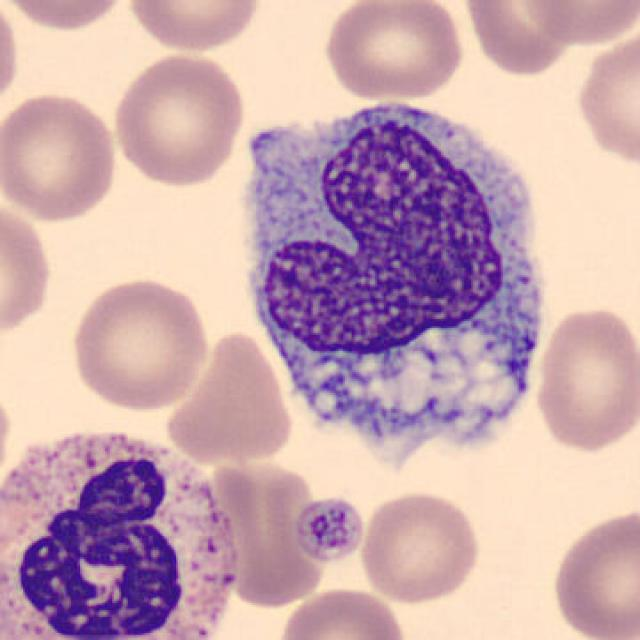Eosinophil: (0, 414, 252, 639)
Monocyte: (228, 78, 562, 476)
Platelets: (290, 494, 368, 566)
RBC: (66, 274, 212, 414), (108, 50, 249, 190), (205, 453, 327, 614), (160, 326, 297, 466), (0, 86, 123, 224), (530, 301, 638, 455), (356, 486, 486, 606), (320, 0, 467, 102), (546, 504, 638, 640), (571, 21, 638, 173), (459, 0, 585, 78), (0, 194, 55, 344), (124, 0, 265, 55), (275, 583, 410, 640), (518, 0, 638, 48), (0, 0, 135, 35), (0, 0, 23, 116), (0, 377, 16, 499)
